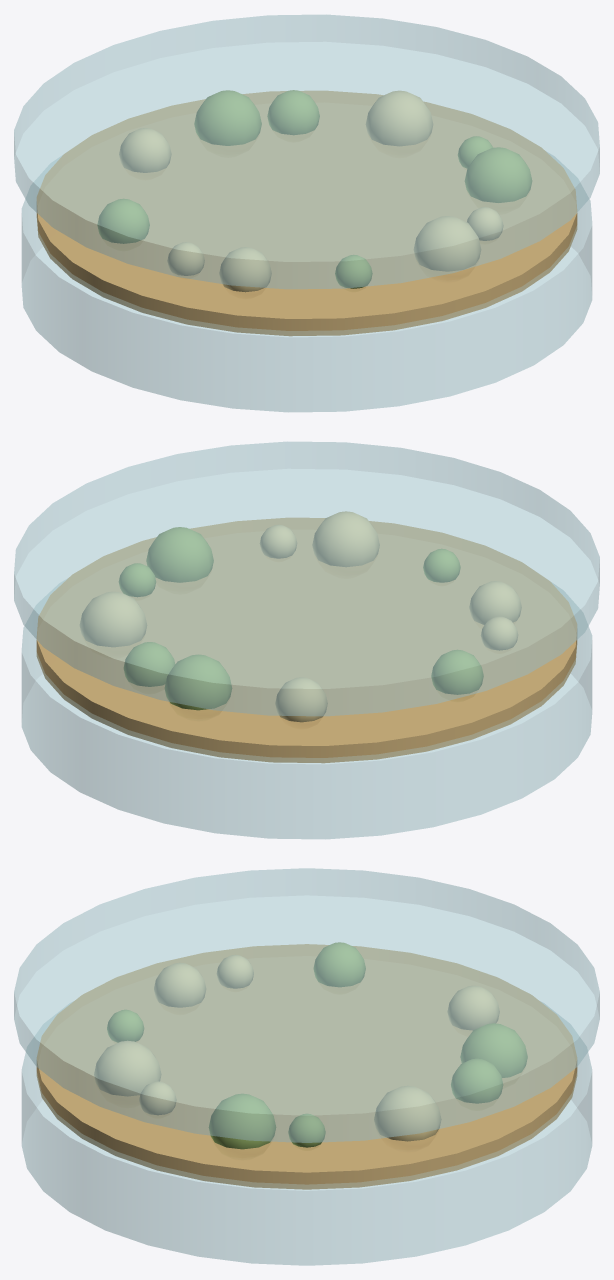
File: catalogue-microbial-culture.glb
The picture shows the model from 3 angles, top to bottom: view 1: azimuth 30°, elevation 25°; view 2: azimuth 150°, elevation 25°; view 3: azimuth 270°, elevation 25°; orthographic projection.
Bounding box in the file's own units: 0.78 × 0.225 × 0.78.
